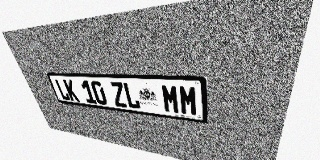0: (90, 81, 108, 105)
1: (79, 80, 97, 104)
K: (63, 79, 80, 102)
L: (122, 82, 141, 109), (54, 79, 71, 101)
M: (178, 85, 198, 116), (161, 84, 180, 114)
Z: (109, 82, 128, 108)
